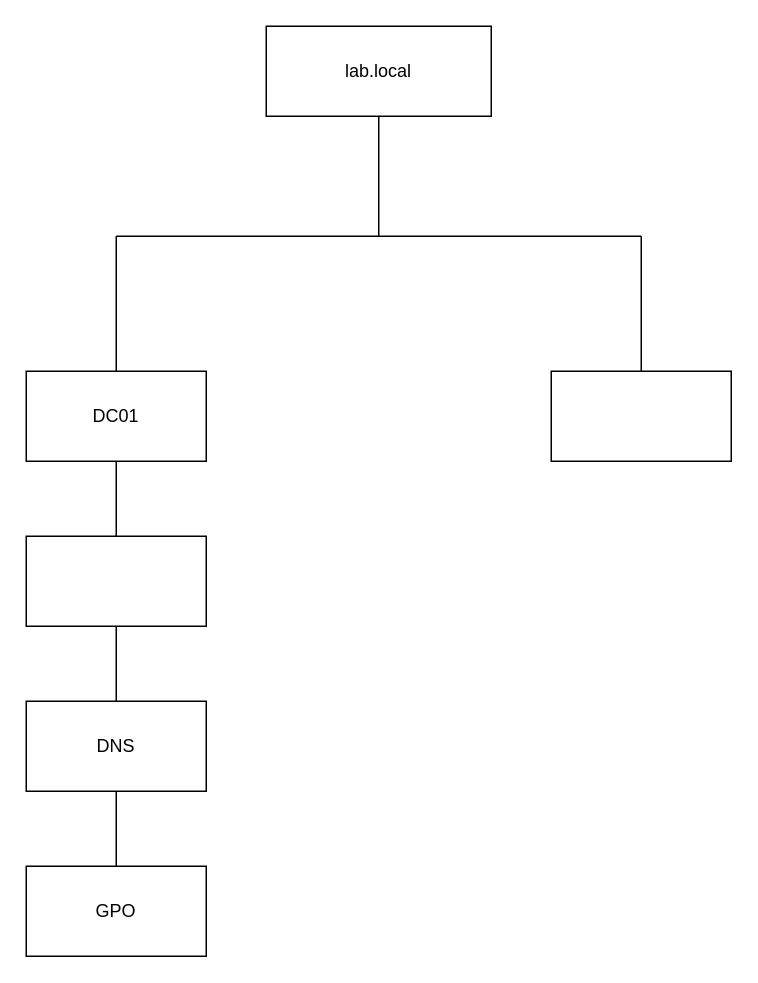
Some shapes in this 758 by 983 pixel diagram are drawn without their labels. The shapes that lost their labels are listed below. From the top down, each one's centre as x and y in pixels, then its label:
At [640,415]: "CLIENT01".
At [115,580]: "AD DS".
